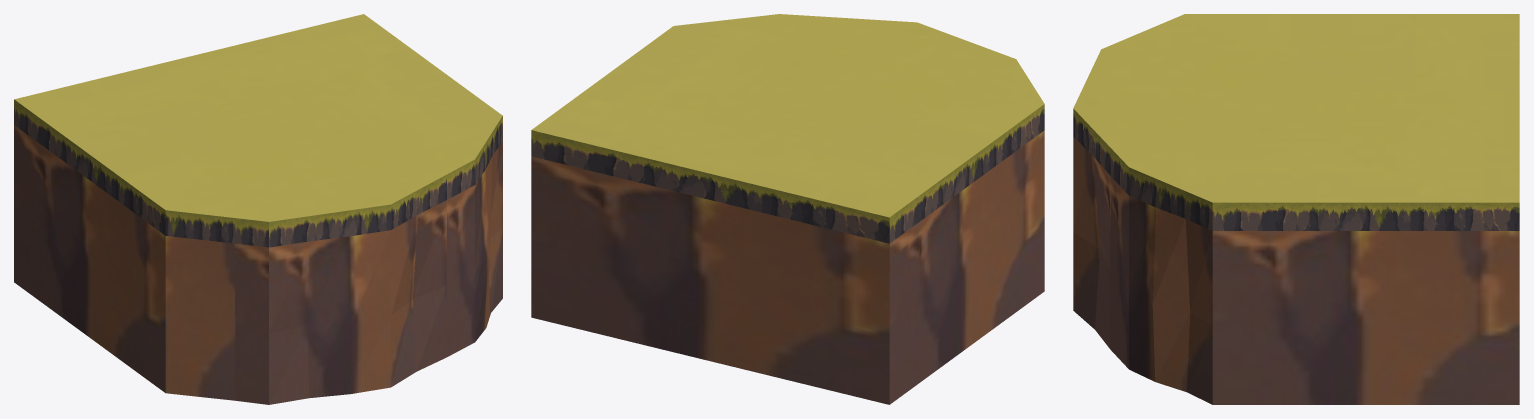
Rendered from rc_terrain_islandedge_16x16_large.glb.
3 views of the same model, side by side, from view 1: azimuth 30°, elevation 25°; view 2: azimuth 150°, elevation 25°; view 3: azimuth 270°, elevation 25° (orthographic). The views are drawn at different scales.
Visible parts, largest first — view 1: SM_RC_Terrain_IslandEdge_16x16_Large; view 2: SM_RC_Terrain_IslandEdge_16x16_Large; view 3: SM_RC_Terrain_IslandEdge_16x16_Large.
Boxes of the visible parts, x1,y1,x2,y2 form: SM_RC_Terrain_IslandEdge_16x16_Large: (14, 14, 502, 404); SM_RC_Terrain_IslandEdge_16x16_Large: (531, 14, 1044, 404); SM_RC_Terrain_IslandEdge_16x16_Large: (1073, 14, 1519, 404).
Size of the model in its own units: 16 by 8 by 16.
Materials: 1 (1 with a texture image).
